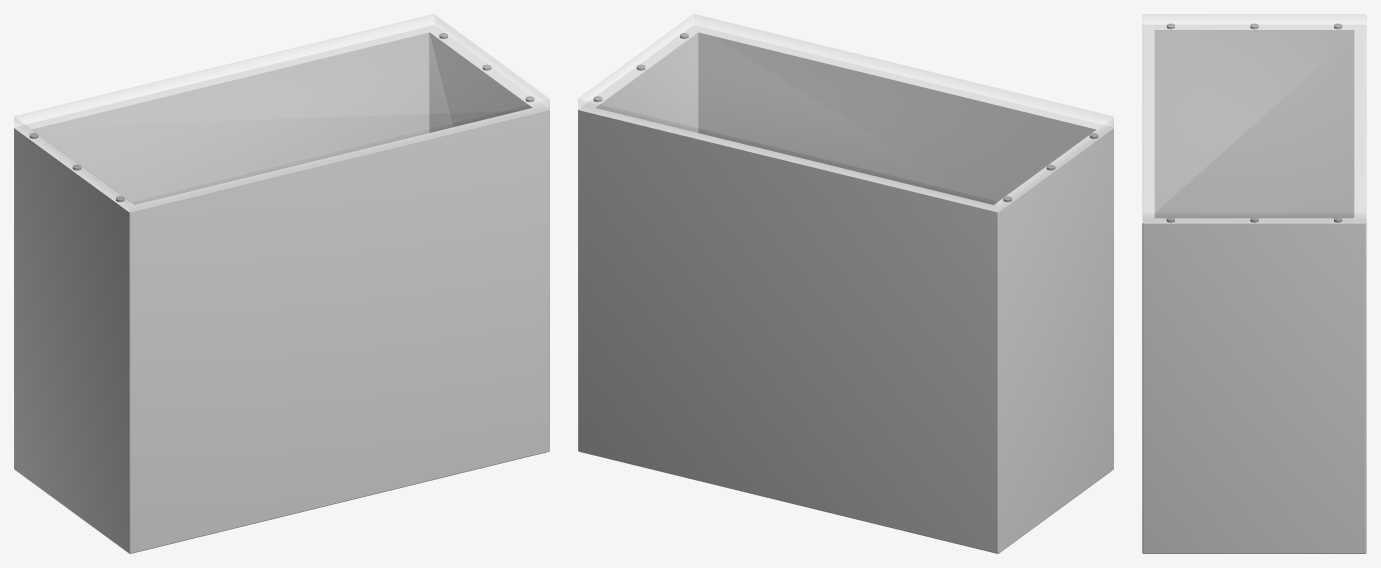
File: acrylic-case-2pack.glb
3 views of the same model, side by side, from view 1: azimuth 30°, elevation 25°; view 2: azimuth 150°, elevation 25°; view 3: azimuth 270°, elevation 25° (orthographic). The views are drawn at different scales.
Visible parts, largest first — view 1: Cube, Cube.002; view 2: Cube, Cube.002; view 3: Cube, Cube.002.
Boxes of the visible parts, <box> form: Cube: <box>14,25,549,553</box>; Cube.002: <box>14,14,549,211</box>; Cube: <box>578,25,1113,553</box>; Cube.002: <box>578,14,1113,211</box>; Cube: <box>1142,24,1366,553</box>; Cube.002: <box>1142,14,1366,222</box>.
Size of the model in its own units: 0.224 by 0.18 by 0.107.
Materials: 4 (3 with a texture image).
